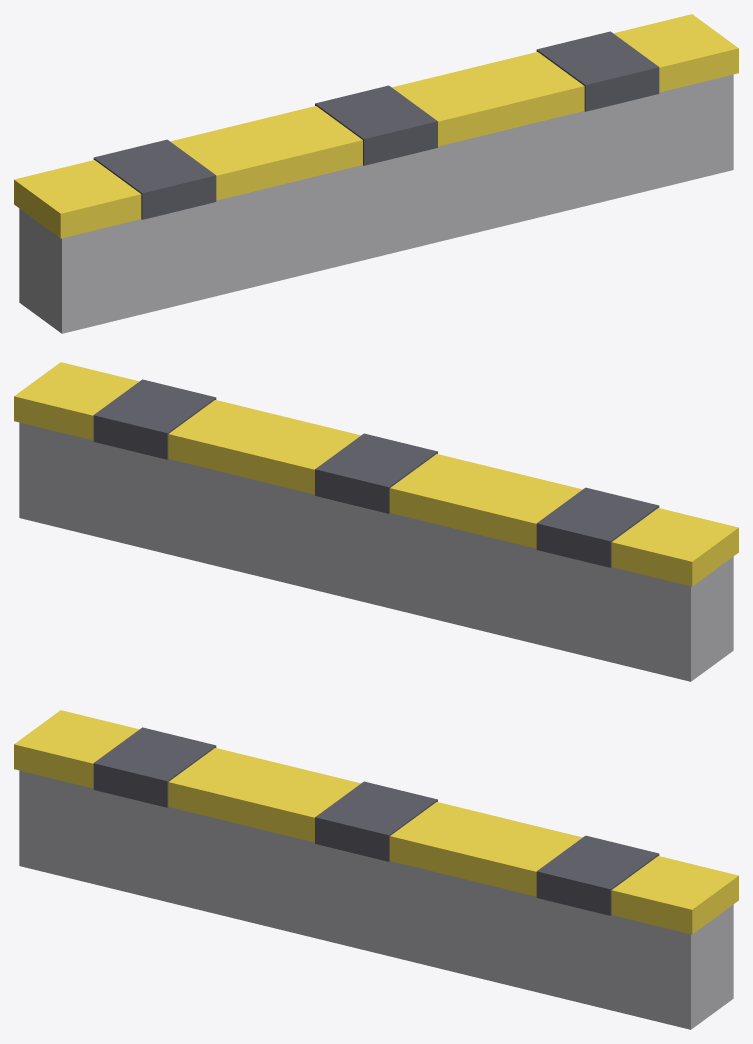
File: rail.glb
3 views of the same model, one above another, from view 1: azimuth 30°, elevation 25°; view 2: azimuth 150°, elevation 25°; view 3: azimuth 330°, elevation 25° (orthographic).
Parts seen in each view (by area): view 1: rail; view 2: rail; view 3: rail.
Boxes of the visible parts, x1,y1,x2,y2 form: rail: (14, 14, 738, 333); rail: (14, 362, 738, 681); rail: (14, 710, 738, 1029).
Size of the model in its own units: 2 by 0.3495 by 0.25.
